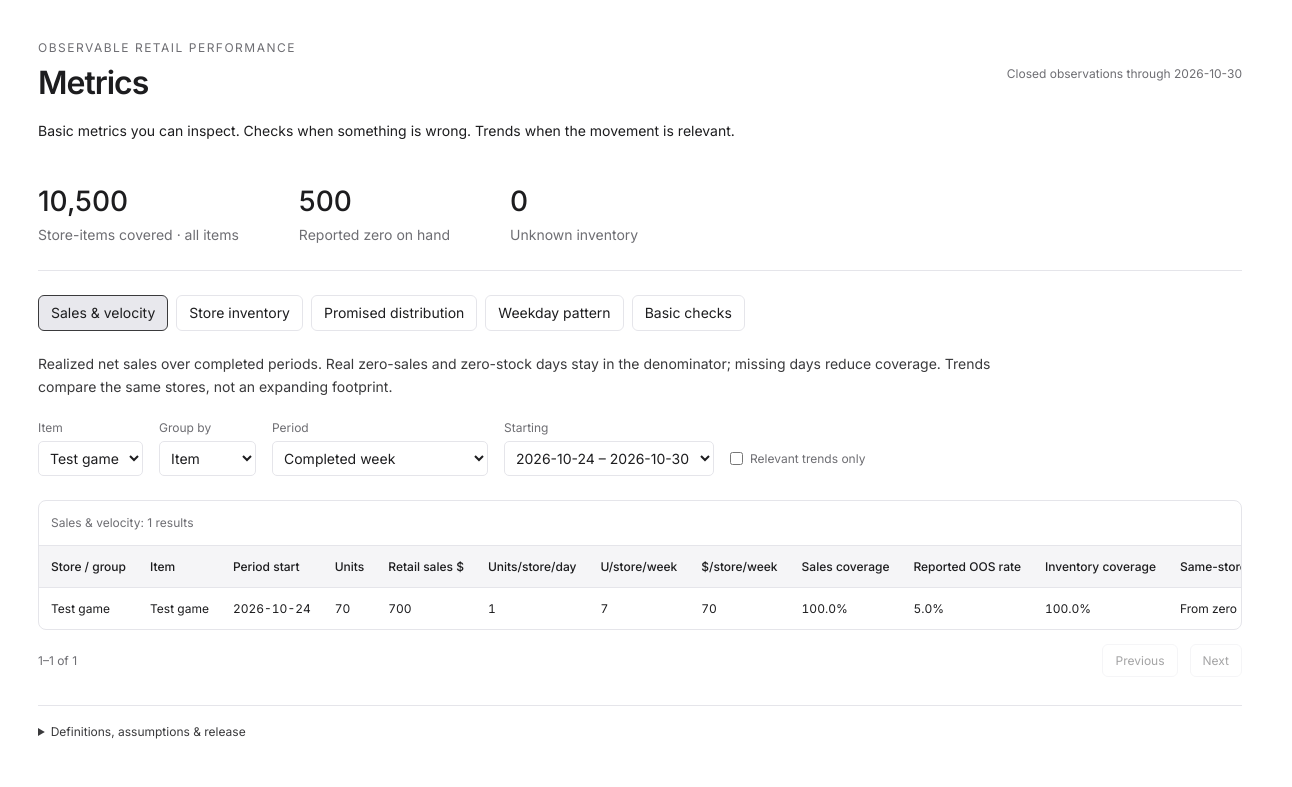
Test case: Metrics browser › shows accessible metrics, coverage, and the from-zero caveat
This screenshot has width=1292, height=787.
Expected: the table is shown, [39,501,1242,629]
Expected: the text "10,500" is shown, [38,184,128,218]
Click the heading "Definitions, assumptions & release": (148, 732) [51,724,246,739]
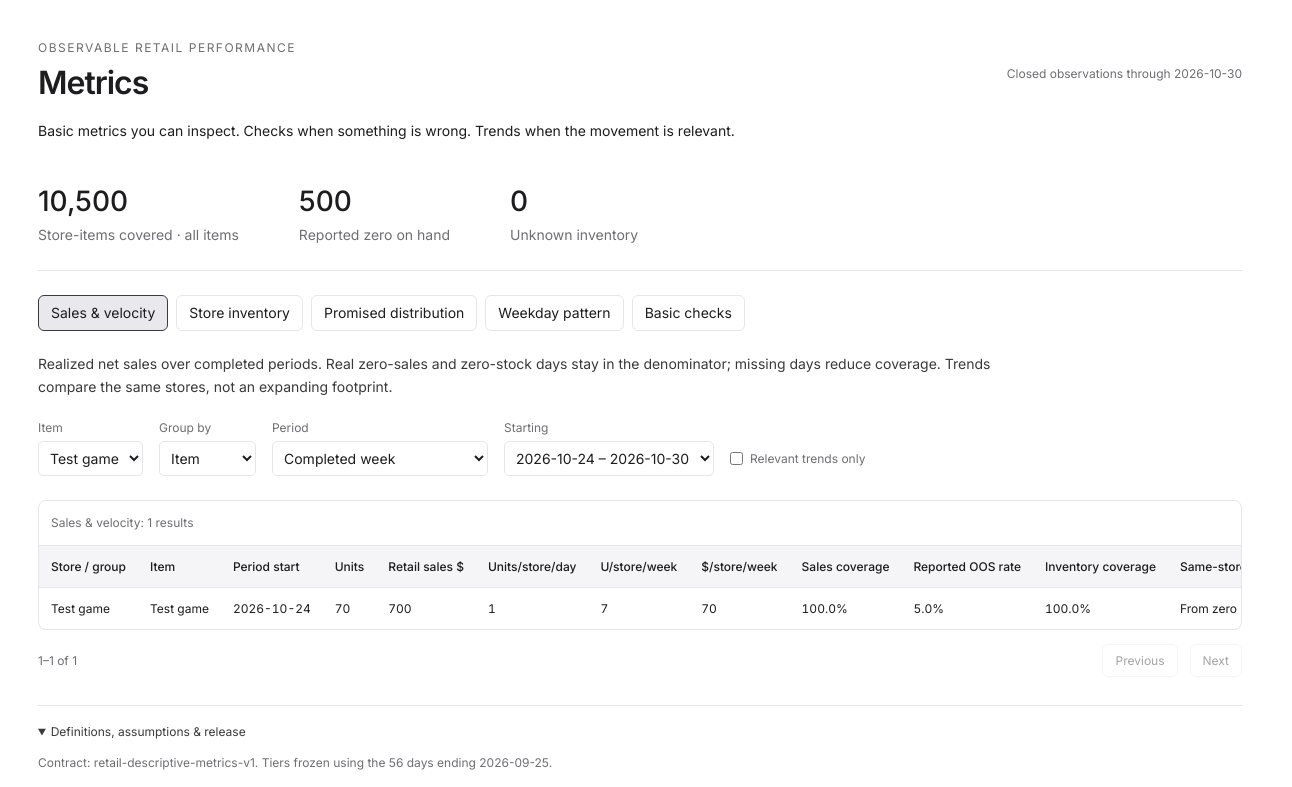
Expected: the text "Tiers frozen using" is shown, [255,755,479,770]
